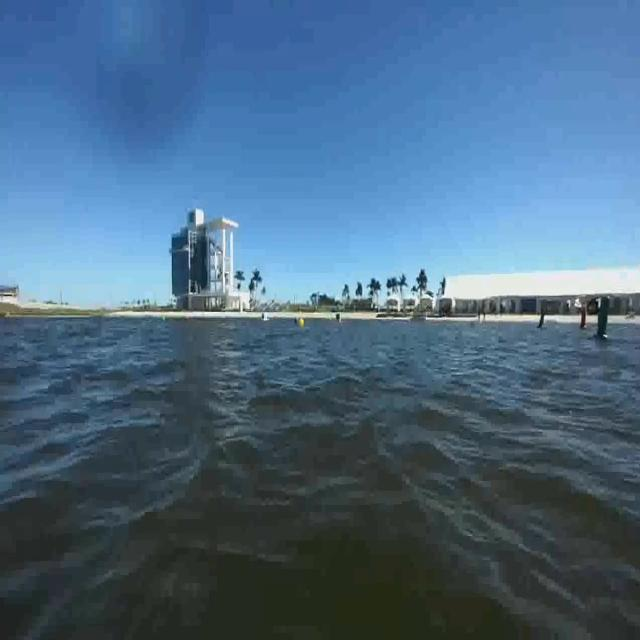green-column-buoy: (593, 294, 613, 341), (537, 303, 548, 331)
red-column-buoy: (578, 306, 588, 333)
yellow-buoy: (298, 317, 304, 328)
